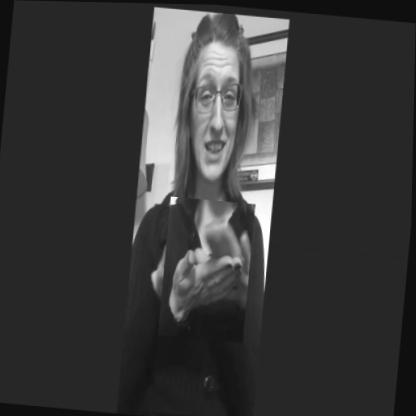NiceToMeetYou: (160, 195, 256, 342)
